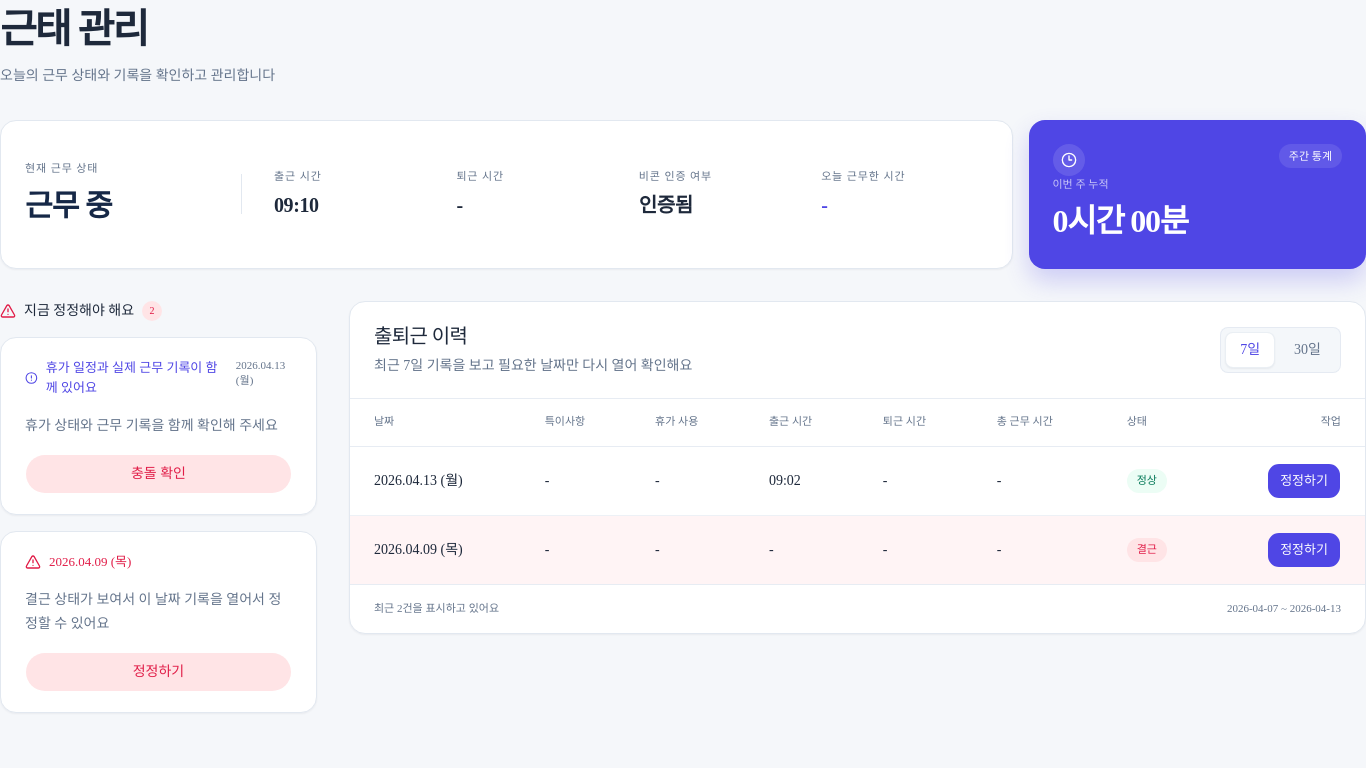
Scenario: AttendancePageClient › renders leave conflict guidance as a read-only sheet
This screenshot has width=1366, height=768.
Click the button "충돌 확인" at {"x": 158, "y": 474}, box [25,454,292,494]
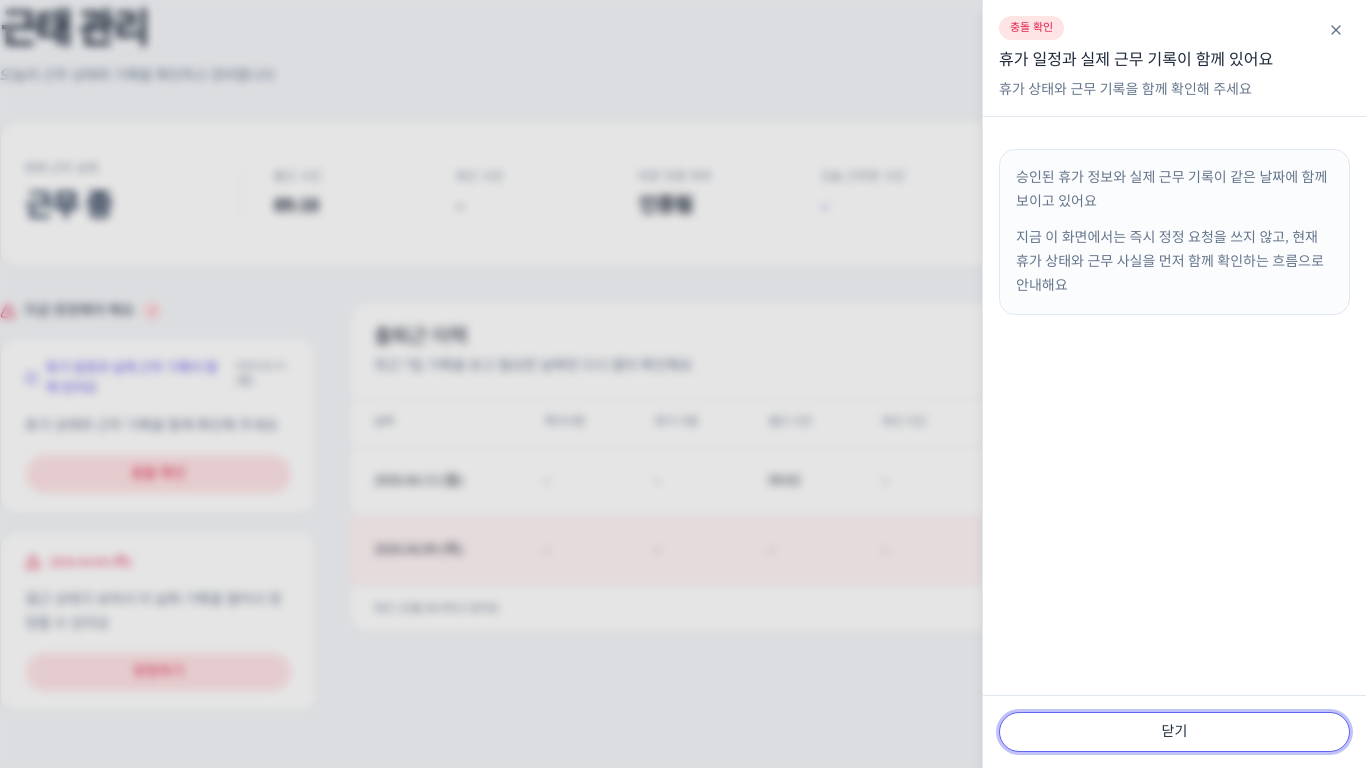
Check: the text "승인된 휴가 정보와 실제 근무 기록이 같은 날짜에 함께 보이고 있어요" is shown, box [1016,166,1333,214]
